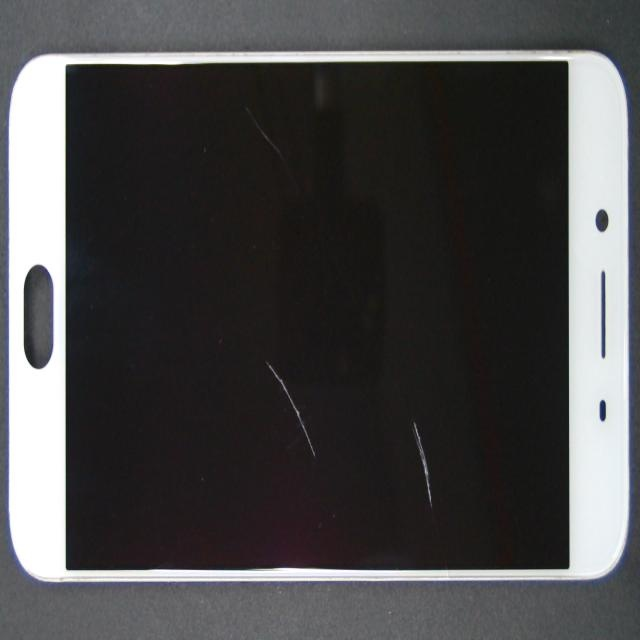scratch: (184, 128, 624, 640), (202, 294, 467, 634)
